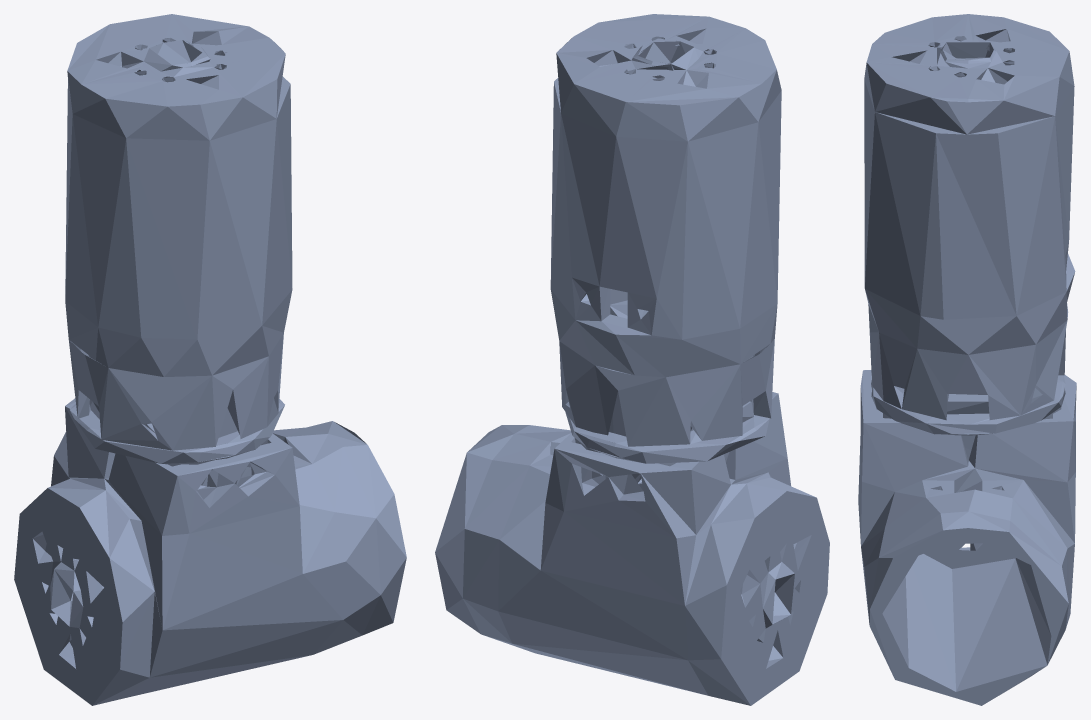
Rendered from neck_pan.dae.
The picture shows the model from 3 angles, left to right: view 1: azimuth 30°, elevation 25°; view 2: azimuth 150°, elevation 25°; view 3: azimuth 270°, elevation 25°; orthographic projection. The views are drawn at different scales.
Parts seen in each view (by area): view 1: M1; view 2: M1; view 3: M1.
Boxes of the visible parts, <box> form: M1: <box>14,14,406,705</box>; M1: <box>435,14,829,705</box>; M1: <box>858,14,1076,705</box>.
Bounding box in the file's own units: 0.062 × 0.0426 × 0.1253.
